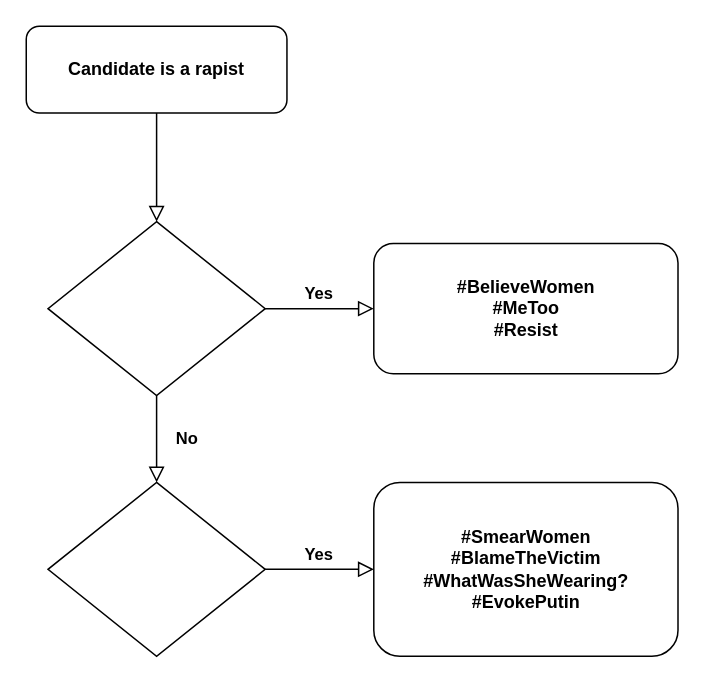
The diagram is 705 pixels wide and 683 high, and some of its shapes have lost their labels. Here are the shapes that lost their labels. From the top down, the box of each, then its label:
(46, 220, 265, 396): GOP Troglodyte?
(46, 481, 265, 656): DNC Centrist?
